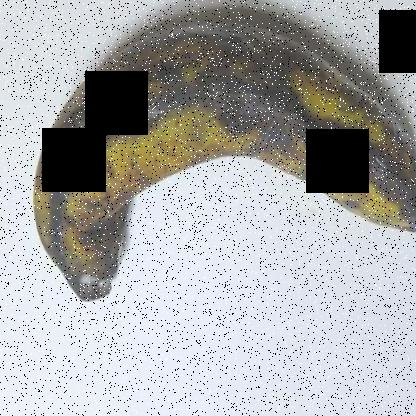overripe: (20, 13, 415, 310)
rotten: (60, 204, 165, 318)
